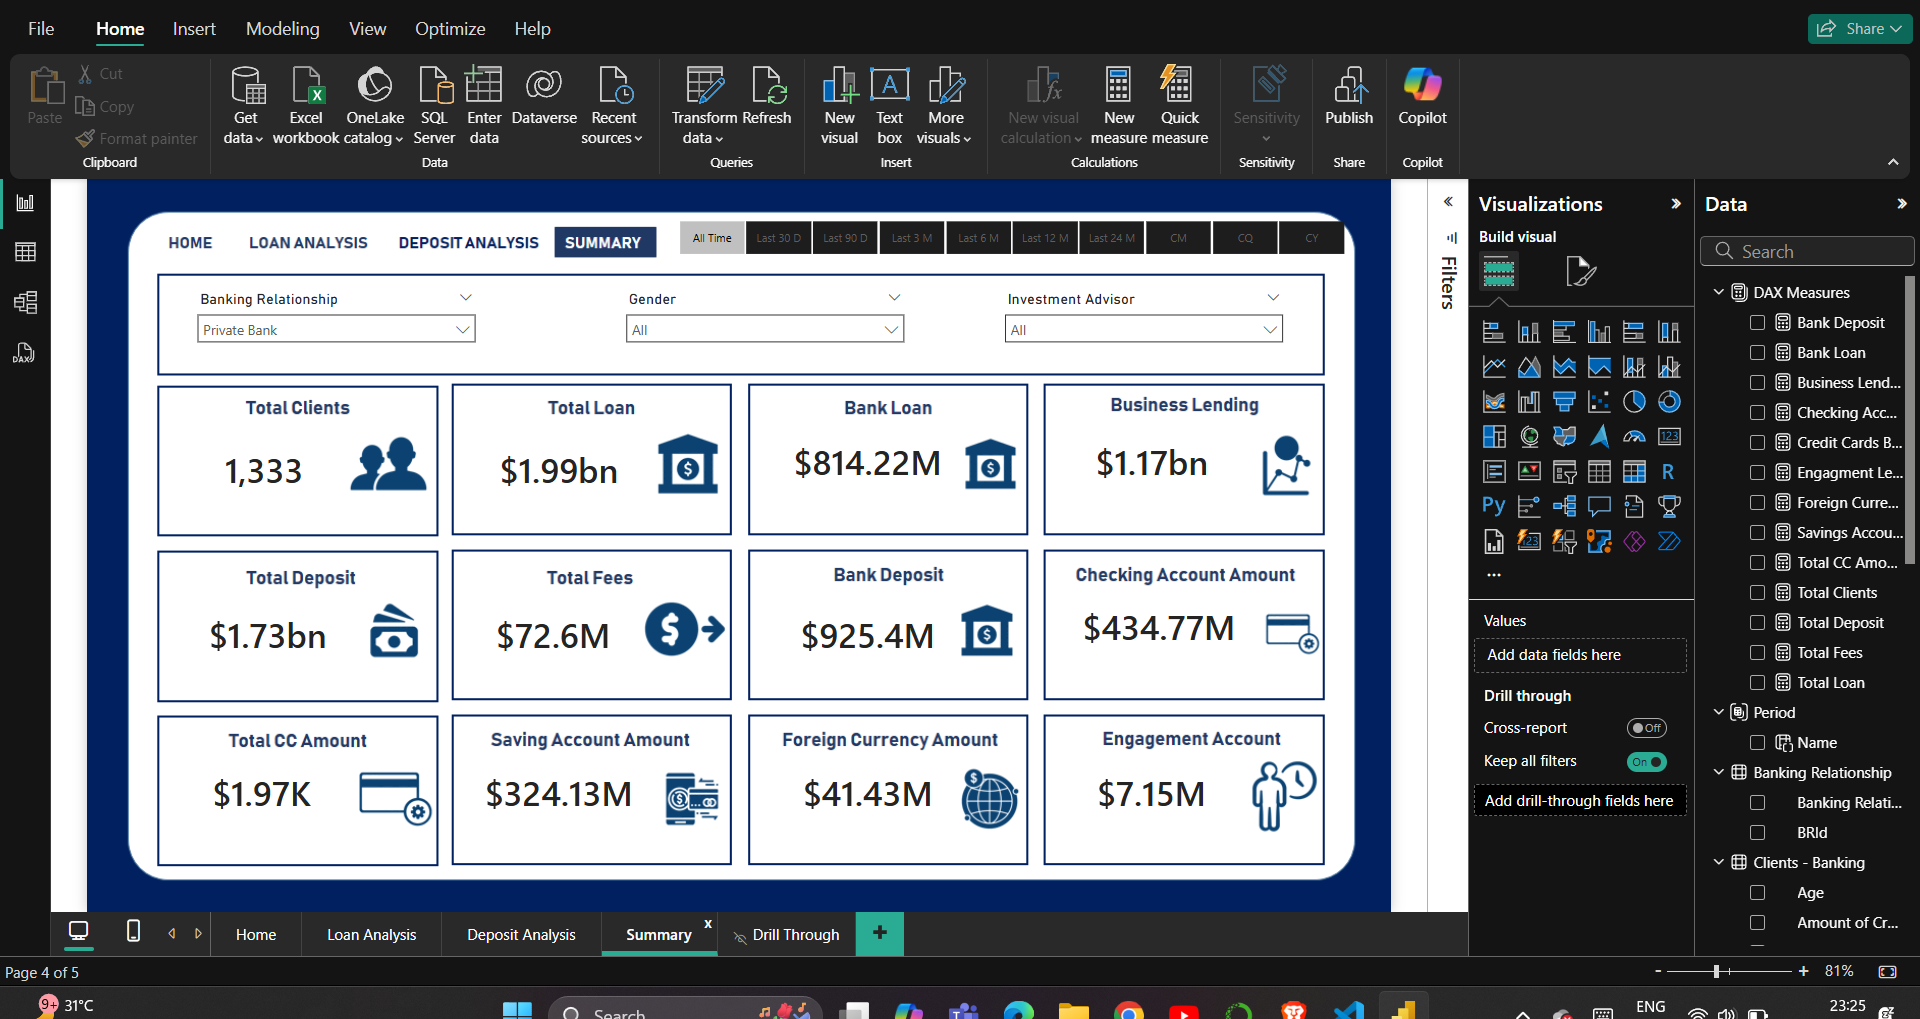

What the dashboard file says about the page in this screenshot:
{"tool":"powerbi","page":{"name":"Summary","canvas":[1280,720],"ordinal":3},"visuals":[{"type":"card","fields":{"Values":["DAX Measures.Engagment Length"]},"box":[946.3,546.4,198.2,114.9],"z":0},{"type":"card","fields":{"Values":["DAX Measures.Foreign Currency Account"]},"box":[667.2,546.4,198.2,114.9],"z":1000},{"type":"card","fields":{"Values":["DAX Measures.Bank Deposit"]},"box":[667.2,390.5,198.2,114.9],"z":2000},{"type":"card","fields":{"Values":["DAX Measures.Checking Accounts"]},"box":[953.4,382.3,198.2,114.9],"z":3000},{"type":"card","fields":{"Values":["DAX Measures.Bank Loan"]},"box":[667.2,220.5,198.2,114.9],"z":4000},{"type":"card","fields":{"Values":["DAX Measures.Business Lending"]},"box":[953.4,220.5,184.1,114.9],"z":5000},{"type":"card","fields":{"Values":["DAX Measures.Savings Account"]},"box":[360,546.4,207.6,114.9],"z":6000},{"type":"card","fields":{"Values":["DAX Measures.Total CC Amount"]},"box":[72.7,546.4,198.2,114.9],"z":7000},{"type":"card","fields":{"Values":["DAX Measures.Total Deposit"]},"box":[78.6,390.5,198.2,114.9],"z":8000},{"type":"card","fields":{"Values":["DAX Measures.Total Fees"]},"box":[365.9,390.5,184.1,114.9],"z":9000},{"type":"card","fields":{"Values":["DAX Measures.Total Clients"]},"box":[75,228.7,198.2,114.9],"z":10000},{"type":"card","fields":{"Values":["DAX Measures.Total Loan"]},"box":[365.9,228.7,195.8,114.9],"z":11000},{"type":"slicer","fields":{"Values":["Banking Relationship.Banking Relationship"]},"box":[98.5,104.3,292.9,75.7],"z":12000},{"type":"slicer","fields":{"Values":["Gender.Gender"]},"box":[518.9,104.3,292.9,75.7],"z":13000},{"type":"slicer","fields":{"Values":["Investment Advisor.Investment Advisor"]},"box":[891.3,104.3,292.9,75.7],"z":14000},{"type":"slicer","fields":{"Values":["Period.Name"]},"box":[555.2,34.6,702.1,46.6],"z":15000},{"type":"actionButton","box":[72.8,44.2,58.5,31],"z":16000},{"type":"actionButton","box":[306.9,44.7,119.4,31],"z":17000},{"type":"actionButton","box":[297.9,44.6,147.8,30.5],"z":18000},{"type":"actionButton","box":[157.1,44.6,125.5,30.5],"z":19000}]}

Visuals, with their boxes on the page's 1280x720 design canvas (x1, y1, x2, y2). These are canvas units, not pixel positions in the 1920x1019 screenshot, which may show the page scaled, cropped or inside an application window:
card - DAX Measures.Engagment Length: bbox=(946, 546, 1144, 661)
card - DAX Measures.Foreign Currency Account: bbox=(667, 546, 865, 661)
card - DAX Measures.Bank Deposit: bbox=(667, 390, 865, 505)
card - DAX Measures.Checking Accounts: bbox=(953, 382, 1152, 497)
card - DAX Measures.Bank Loan: bbox=(667, 220, 865, 335)
card - DAX Measures.Business Lending: bbox=(953, 220, 1138, 335)
card - DAX Measures.Savings Account: bbox=(360, 546, 568, 661)
card - DAX Measures.Total CC Amount: bbox=(73, 546, 271, 661)
card - DAX Measures.Total Deposit: bbox=(79, 390, 277, 505)
card - DAX Measures.Total Fees: bbox=(366, 390, 550, 505)
card - DAX Measures.Total Clients: bbox=(75, 229, 273, 344)
card - DAX Measures.Total Loan: bbox=(366, 229, 562, 344)
slicer - Banking Relationship.Banking Relationship: bbox=(98, 104, 391, 180)
slicer - Gender.Gender: bbox=(519, 104, 812, 180)
slicer - Investment Advisor.Investment Advisor: bbox=(891, 104, 1184, 180)
slicer - Period.Name: bbox=(555, 35, 1257, 81)
actionButton: bbox=(73, 44, 131, 75)
actionButton: bbox=(307, 45, 426, 76)
actionButton: bbox=(298, 45, 446, 75)
actionButton: bbox=(157, 45, 283, 75)
